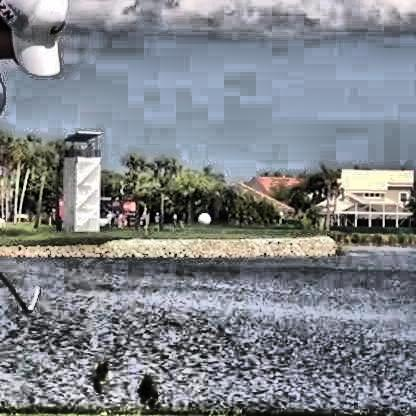golfball: (197, 211, 212, 227)
